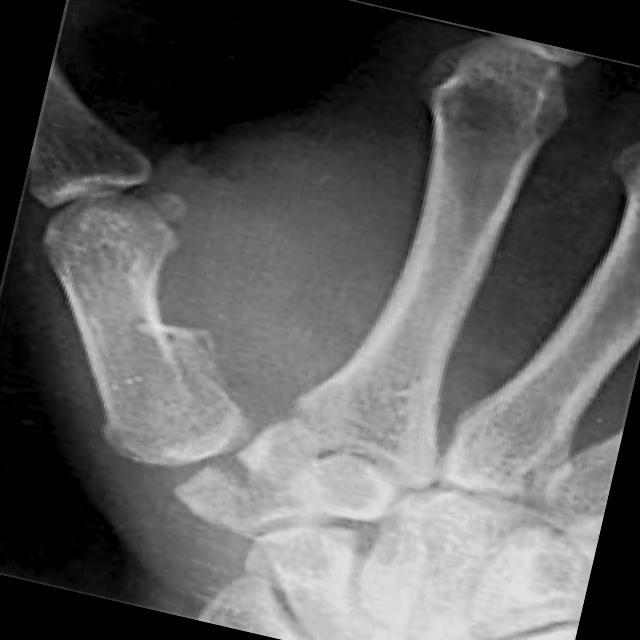Comminuted Fracture: (116, 421, 256, 525), (110, 151, 214, 245)
